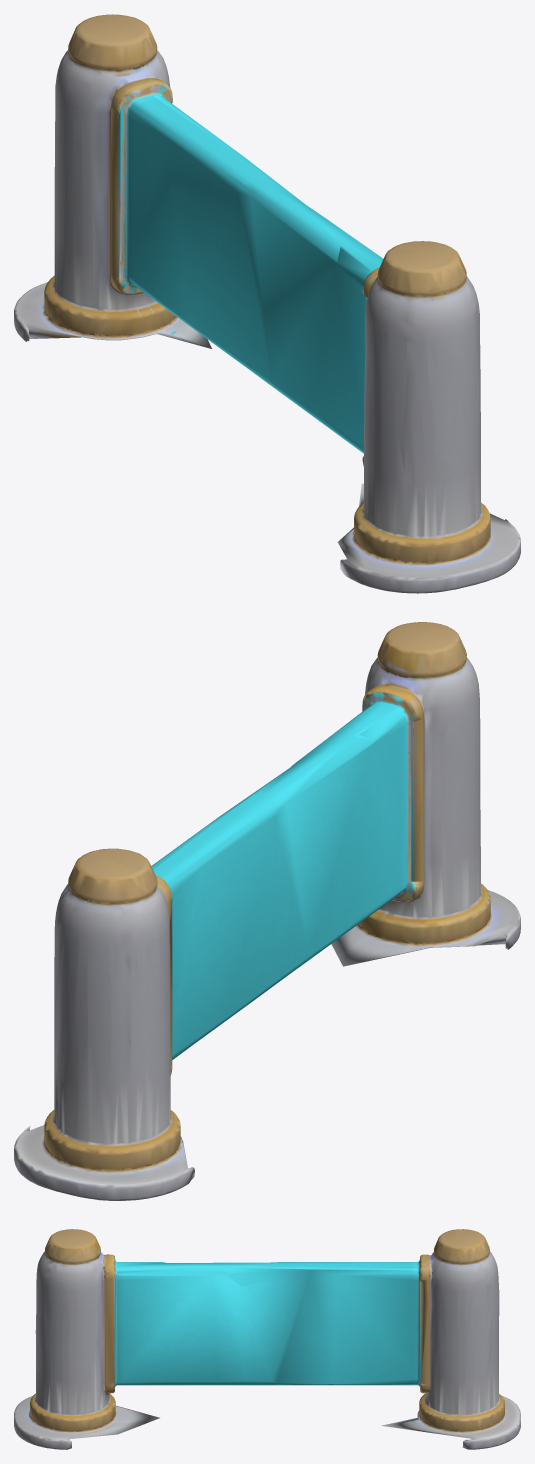
The picture shows the model from 3 angles, top to bottom: view 1: azimuth 30°, elevation 25°; view 2: azimuth 150°, elevation 25°; view 3: azimuth 270°, elevation 25°; orthographic projection. The views are drawn at different scales.
Visible parts, largest first — view 1: repaired; view 2: repaired; view 3: repaired.
Part boxes in pixels (<box>): repaired: <box>14,14,520,593</box>; repaired: <box>14,622,520,1200</box>; repaired: <box>14,1229,520,1449</box>.
Bounding box in the file's own units: 0.2368 × 0.4077 × 0.9995.
1 material, 1 textured.
